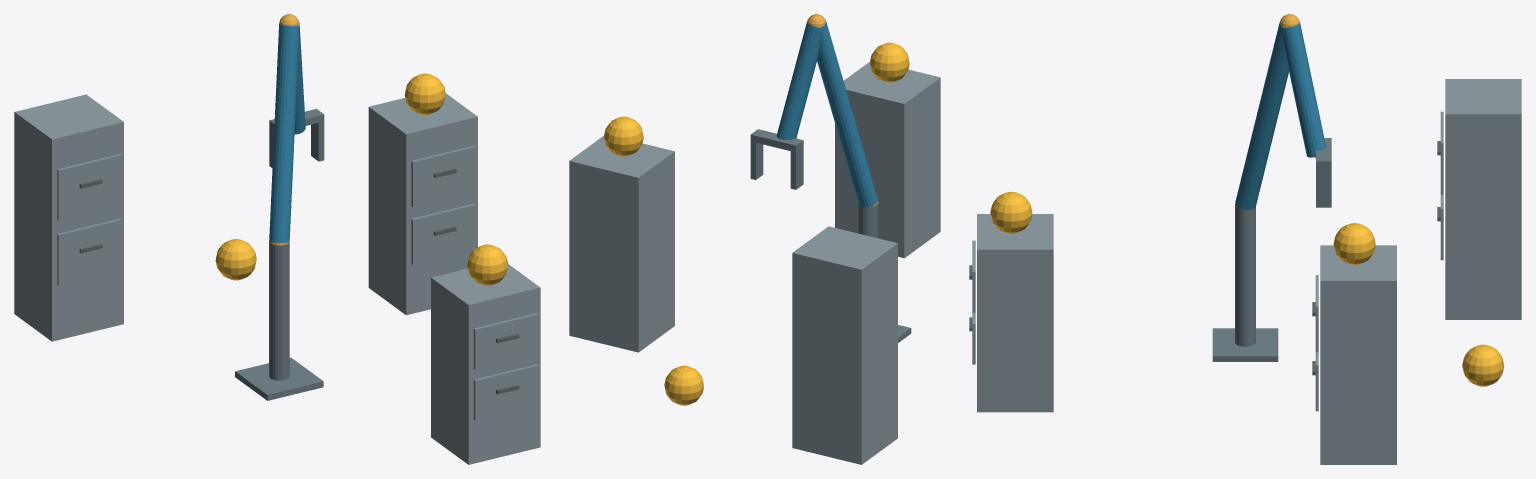
3 renders of one model, left to right at view 1: azimuth 30°, elevation 25°; view 2: azimuth 150°, elevation 25°; view 3: azimuth 270°, elevation 25°, orthographic. The views are drawn at different scales.
Visible parts, largest first — view 1: cabinet_3 body, cabinet_2 body, cabinet_1 body, moving link 1, cabinet_3 drawer front.001, cabinet_3 drawer front, cabinet_2 drawer front.001, cabinet_2 drawer front, fixed post, cabinet_1 drawer front.001, cabinet_1 drawer front, pedestal (+4 smaller); view 2: cabinet_3 body, cabinet_2 body, cabinet_1 body, moving link 1, moving link 2, released ball_2, ball ball_3, released ball_1, gripper bridge, fixed post, gripper finger -1, gripper finger 1; view 3: cabinet_3 body, cabinet_2 body, cabinet_1 body, moving link 1, fixed post, moving link 2, pedestal, ball ball_3, released ball_2, released ball_1, gripper finger 1.
Boxes of the visible parts, x1=… form: cabinet_3 body: x1=14, y1=94, x2=123, y2=341; cabinet_2 body: x1=368, y1=93, x2=477, y2=315; cabinet_1 body: x1=431, y1=264, x2=540, y2=464; moving link 1: x1=269, y1=24, x2=299, y2=242; cabinet_3 drawer front.001: x1=57, y1=154, x2=121, y2=220; cabinet_3 drawer front: x1=57, y1=218, x2=121, y2=285; cabinet_2 drawer front.001: x1=411, y1=145, x2=475, y2=207; cabinet_2 drawer front: x1=411, y1=203, x2=475, y2=264; fixed post: x1=269, y1=241, x2=289, y2=380; cabinet_1 drawer front.001: x1=473, y1=313, x2=538, y2=369; cabinet_1 drawer front: x1=473, y1=364, x2=538, y2=420; pedestal: x1=235, y1=357, x2=323, y2=400; cabinet_3 body: x1=792, y1=226, x2=897, y2=464; cabinet_2 body: x1=569, y1=136, x2=674, y2=352; cabinet_1 body: x1=835, y1=62, x2=940, y2=258; moving link 1: x1=817, y1=21, x2=877, y2=207; moving link 2: x1=776, y1=21, x2=819, y2=139; released ball_2: x1=604, y1=116, x2=643, y2=156; ball ball_3: x1=664, y1=365, x2=703, y2=405; released ball_1: x1=870, y1=42, x2=909, y2=82; gripper bridge: x1=750, y1=129, x2=803, y2=152; fixed post: x1=858, y1=203, x2=878, y2=238; gripper finger -1: x1=790, y1=147, x2=803, y2=189; gripper finger 1: x1=750, y1=141, x2=763, y2=179; cabinet_3 body: x1=1445, y1=79, x2=1521, y2=319; cabinet_2 body: x1=1320, y1=245, x2=1396, y2=464; cabinet_1 body: x1=977, y1=214, x2=1053, y2=412; moving link 1: x1=1235, y1=22, x2=1288, y2=210; fixed post: x1=1235, y1=205, x2=1255, y2=346; moving link 2: x1=1283, y1=23, x2=1325, y2=157; pedestal: x1=1212, y1=328, x2=1278, y2=361; ball ball_3: x1=1462, y1=344, x2=1504, y2=386; released ball_2: x1=1333, y1=223, x2=1375, y2=265; released ball_1: x1=990, y1=191, x2=1032, y2=233; gripper finger 1: x1=1316, y1=168, x2=1331, y2=207.
Bounding box in the file's own units: 1.62 × 1.46 × 2.1.
